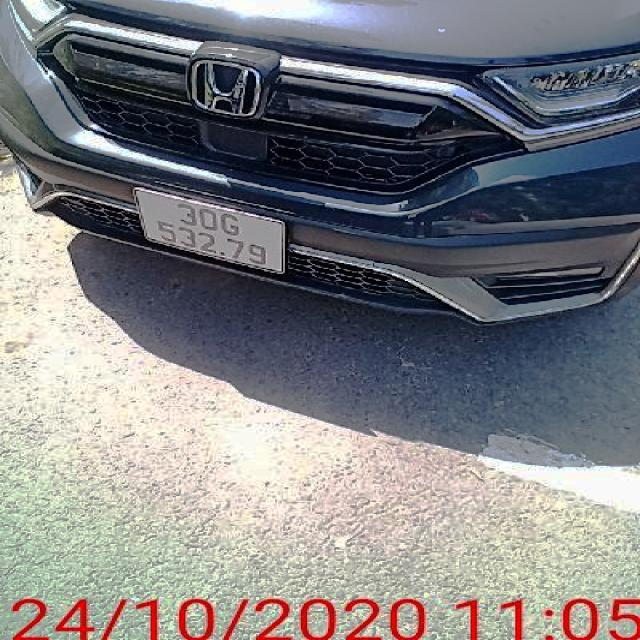license_plate: (137, 189, 285, 274)
